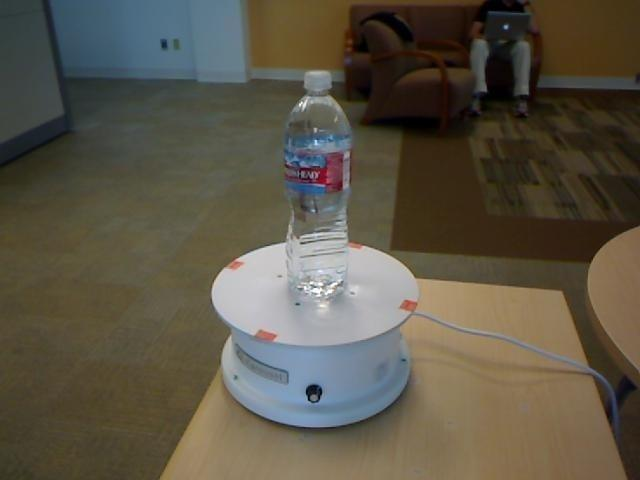bottle-plastic: (278, 65, 356, 305)
